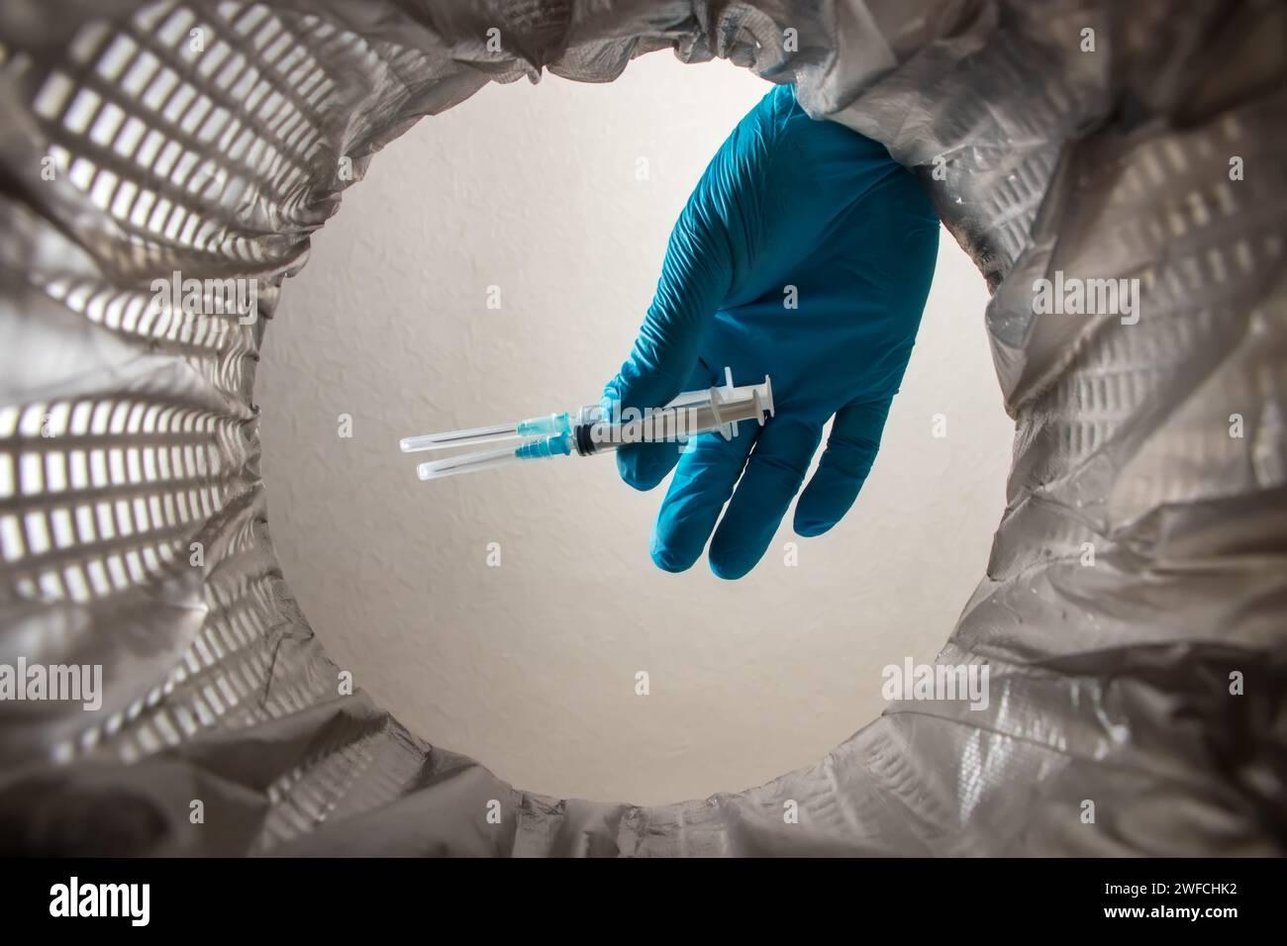Glove: (605, 86, 938, 578)
Syringe: (400, 368, 773, 479)
